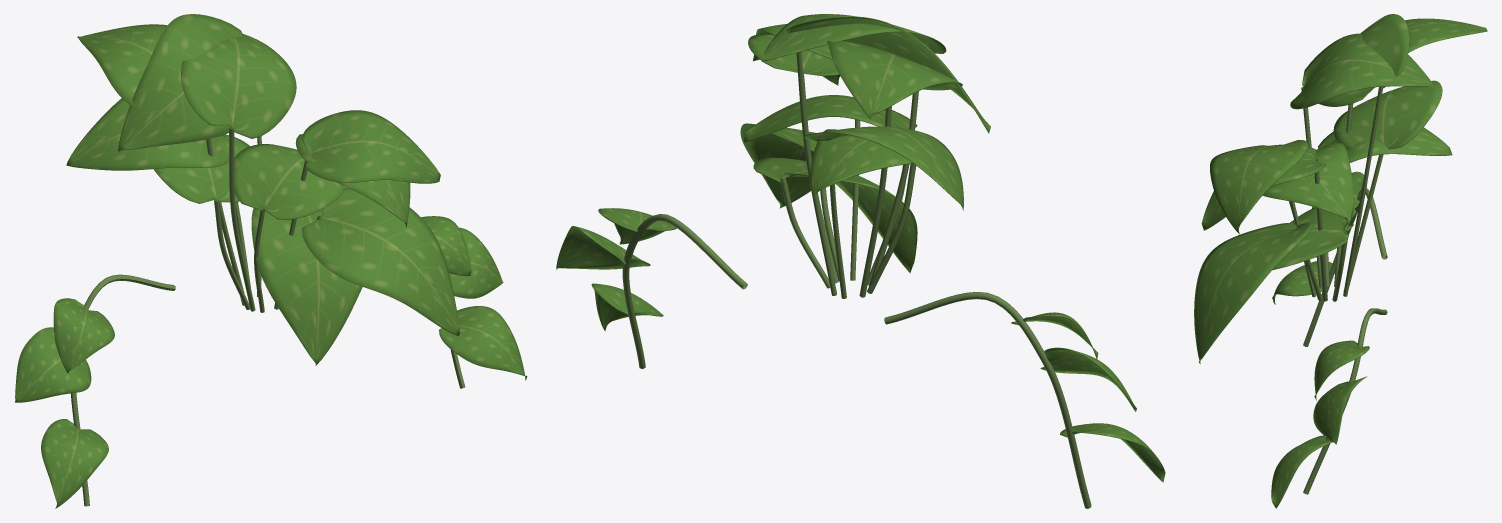
File: pothos-stage-5-v06.glb
3 renders of one model, left to right at view 1: azimuth 30°, elevation 25°; view 2: azimuth 150°, elevation 25°; view 3: azimuth 270°, elevation 25°, orthographic. The views are drawn at different scales.
Parts seen in each view (by area): view 1: V06 pothos-stage-5 Leaf_8, V06 pothos-stage-5 Leaf_1, V06 pothos-stage-5 Leaf_5, V06 pothos-stage-5 Leaf_2, V06 pothos-stage-5 Leaf_3, V06 pothos-stage-5 Leaf_6, V06 pothos-stage-5 Leaf_7, V06 pothos-stage-5 Leaf_vine_0_2, V06 pothos-stage-5 Leaf_4, V06 pothos-stage-5 Leaf_vine_1_2, V06 pothos-stage-5 Leaf_vine_0_1, V06 pothos-stage-5 Leaf_vine_0_0 (+7 smaller); view 2: V06 pothos-stage-5 Leaf_4, V06 pothos-stage-5 Leaf_7, V06 pothos-stage-5 Leaf_5, V06 pothos-stage-5 Leaf_9, V06 pothos-stage-5 Leaf_2, V06 pothos-stage-5 Leaf_1, V06 pothos-stage-5 Leaf_6, V06 pothos-stage-5 Vine_0, V06 pothos-stage-5 Leaf_8, V06 pothos-stage-5 Leaf_vine_1_1, V06 pothos-stage-5 Vine_1, V06 pothos-stage-5 Leaf_0 (+11 smaller); view 3: V06 pothos-stage-5 Leaf_8, V06 pothos-stage-5 Leaf_1, V06 pothos-stage-5 Leaf_3, V06 pothos-stage-5 Leaf_7, V06 pothos-stage-5 Leaf_6, V06 pothos-stage-5 Leaf_2, V06 pothos-stage-5 Leaf_5, V06 pothos-stage-5 Leaf_9, V06 pothos-stage-5 Leaf_4, V06 pothos-stage-5 Leaf_vine_1_1, V06 pothos-stage-5 Leaf_vine_1_2, V06 pothos-stage-5 Leaf_0 (+8 smaller).
Boxes of the visible parts, left/top/right/bottom form: V06 pothos-stage-5 Leaf_8: left=302, top=187, right=459, bottom=336; V06 pothos-stage-5 Leaf_1: left=181, top=33, right=296, bottom=138; V06 pothos-stage-5 Leaf_5: left=251, top=208, right=362, bottom=365; V06 pothos-stage-5 Leaf_2: left=118, top=14, right=243, bottom=152; V06 pothos-stage-5 Leaf_3: left=301, top=110, right=440, bottom=183; V06 pothos-stage-5 Leaf_6: left=234, top=144, right=345, bottom=219; V06 pothos-stage-5 Leaf_7: left=66, top=98, right=229, bottom=170; V06 pothos-stage-5 Leaf_vine_0_2: left=41, top=419, right=108, bottom=508; V06 pothos-stage-5 Leaf_4: left=77, top=24, right=167, bottom=108; V06 pothos-stage-5 Leaf_vine_1_2: left=439, top=306, right=527, bottom=380; V06 pothos-stage-5 Leaf_vine_0_1: left=15, top=327, right=91, bottom=402; V06 pothos-stage-5 Leaf_vine_0_0: left=53, top=298, right=114, bottom=373; V06 pothos-stage-5 Leaf_4: left=827, top=41, right=962, bottom=119; V06 pothos-stage-5 Leaf_7: left=804, top=126, right=963, bottom=210; V06 pothos-stage-5 Leaf_5: left=753, top=157, right=917, bottom=273; V06 pothos-stage-5 Leaf_9: left=810, top=129, right=912, bottom=200; V06 pothos-stage-5 Leaf_2: left=786, top=16, right=990, bottom=133; V06 pothos-stage-5 Leaf_1: left=761, top=14, right=946, bottom=61; V06 pothos-stage-5 Leaf_6: left=743, top=95, right=917, bottom=142; V06 pothos-stage-5 Vine_0: left=884, top=292, right=1091, bottom=508; V06 pothos-stage-5 Leaf_8: left=740, top=123, right=817, bottom=208; V06 pothos-stage-5 Leaf_vine_1_1: left=556, top=226, right=650, bottom=269; V06 pothos-stage-5 Vine_1: left=622, top=214, right=747, bottom=368; V06 pothos-stage-5 Leaf_0: left=748, top=34, right=840, bottom=85; V06 pothos-stage-5 Leaf_8: left=1194, top=221, right=1313, bottom=364; V06 pothos-stage-5 Leaf_1: left=1290, top=33, right=1434, bottom=109; V06 pothos-stage-5 Leaf_3: left=1210, top=140, right=1308, bottom=234; V06 pothos-stage-5 Leaf_7: left=1333, top=80, right=1442, bottom=149; V06 pothos-stage-5 Leaf_6: left=1263, top=143, right=1353, bottom=224; V06 pothos-stage-5 Leaf_2: left=1318, top=14, right=1409, bottom=106; V06 pothos-stage-5 Leaf_5: left=1272, top=206, right=1356, bottom=270; V06 pothos-stage-5 Leaf_9: left=1318, top=127, right=1452, bottom=162; V06 pothos-stage-5 Leaf_4: left=1405, top=18, right=1487, bottom=52; V06 pothos-stage-5 Leaf_vine_1_1: left=1313, top=376, right=1366, bottom=444; V06 pothos-stage-5 Leaf_vine_1_2: left=1271, top=435, right=1332, bottom=508; V06 pothos-stage-5 Leaf_0: left=1201, top=144, right=1325, bottom=230.
Size of the model in its own units: 2.89 by 2.36 by 1.6.
Materials: 2 (1 with a texture image).
